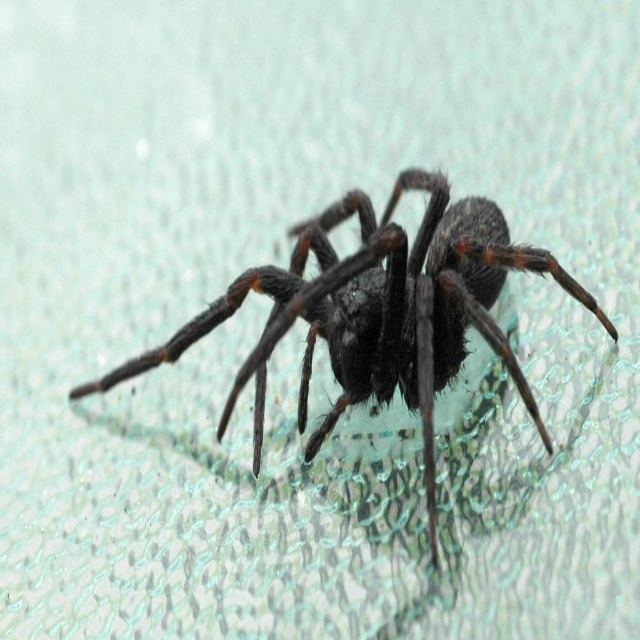Spider: (68, 162, 618, 568)
